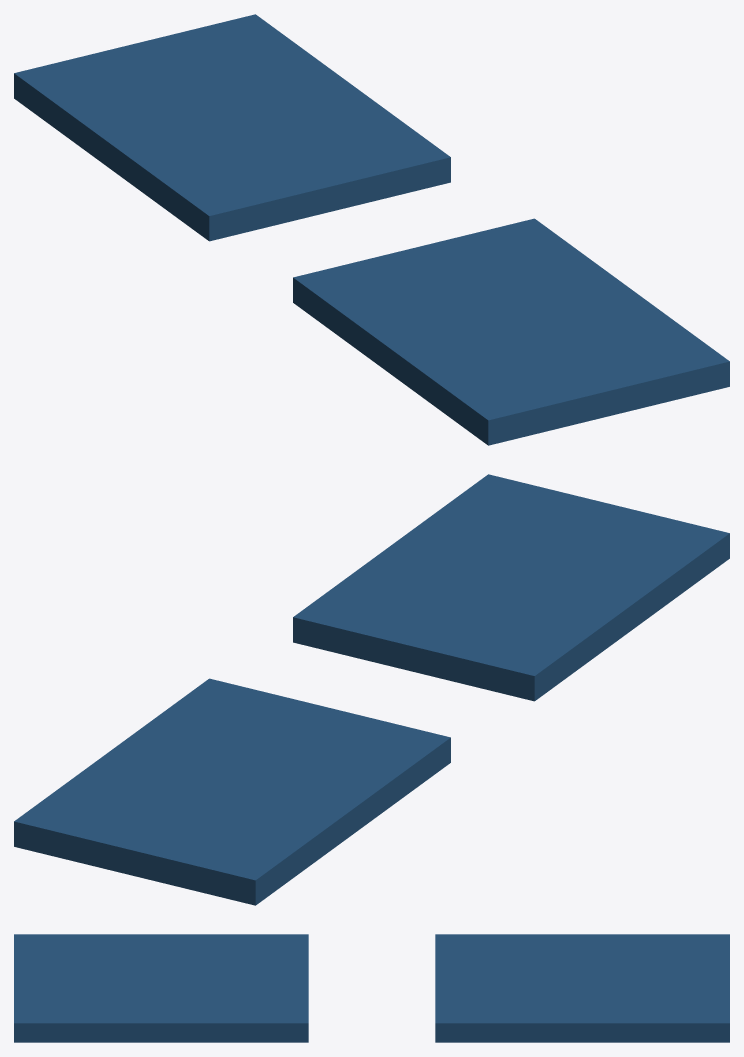
The model's file is boat20_battery.obj.
3 views of the same model, one above another, from view 1: azimuth 30°, elevation 25°; view 2: azimuth 150°, elevation 25°; view 3: azimuth 270°, elevation 25° (orthographic). The views are drawn at different scales.
Parts seen in each view (by area): view 1: boat20_battery; view 2: boat20_battery; view 3: boat20_battery.
Boxes of the visible parts, x1,y1,x2,y2 form: boat20_battery: [14, 14, 729, 445]; boat20_battery: [14, 474, 729, 905]; boat20_battery: [14, 934, 729, 1042].
Bounding box in the file's own units: 1 × 0.1 × 3.4.
